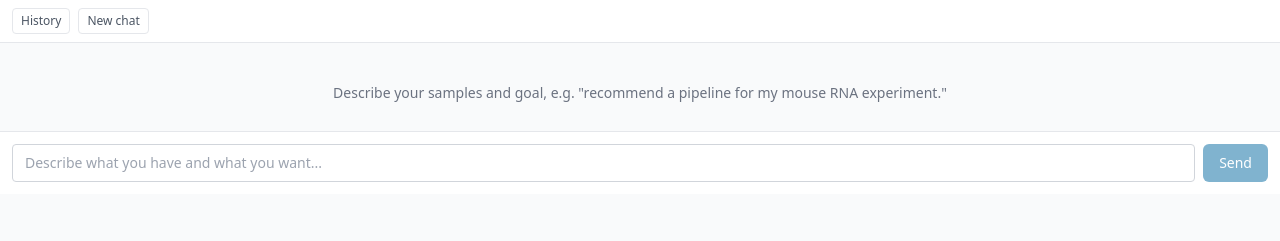
Test case: AssistantChat › sends a message and renders the assistant's answer
Type "recommend a pipeline" into the field named "Message" at coordinates (604, 163), box x1=12 y1=144 x2=1195 y2=182
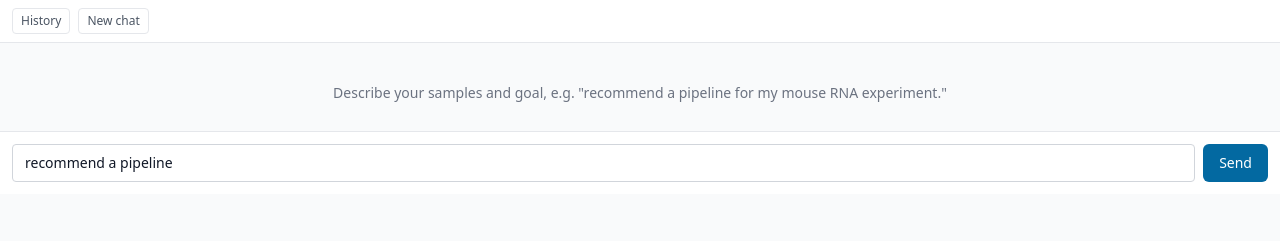
Click the button "Send" at coordinates (1236, 163), box x1=1203 y1=144 x2=1268 y2=182
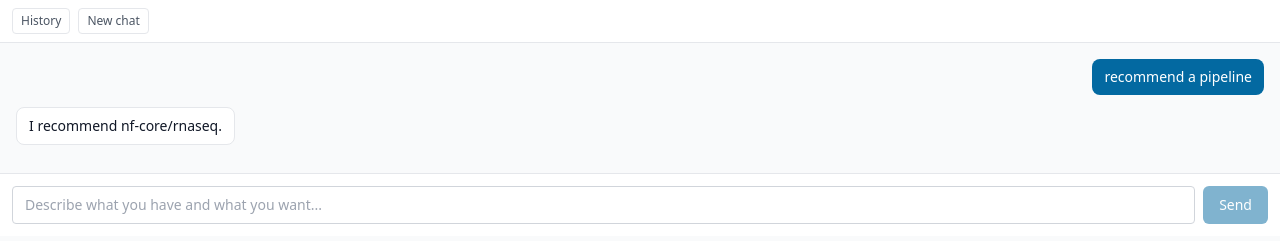
Expected: the text "recommend a pipeline" is shown, x1=1092 y1=59 x2=1264 y2=95
Now the text "I recommend nf-core/rnaseq." is shown, box x1=16 y1=107 x2=235 y2=145
